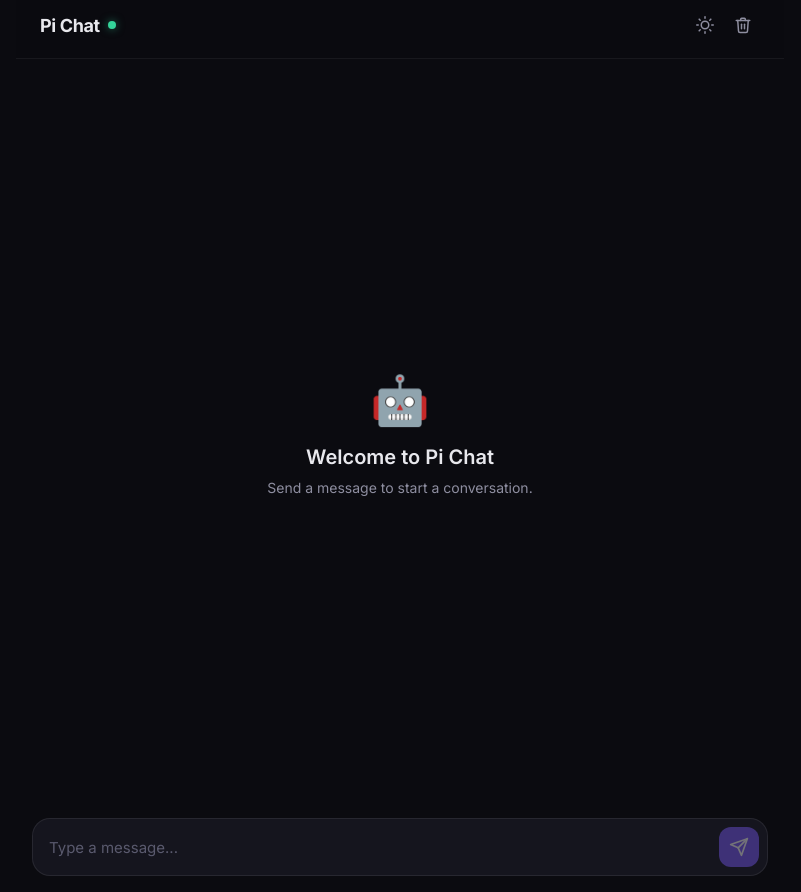
Test: ChatApp › persists messages to localStorage
Type "Persist me" into the text box named "Message input".
click(376, 848); type("Persist me")  # box 41,828 -> 711,867
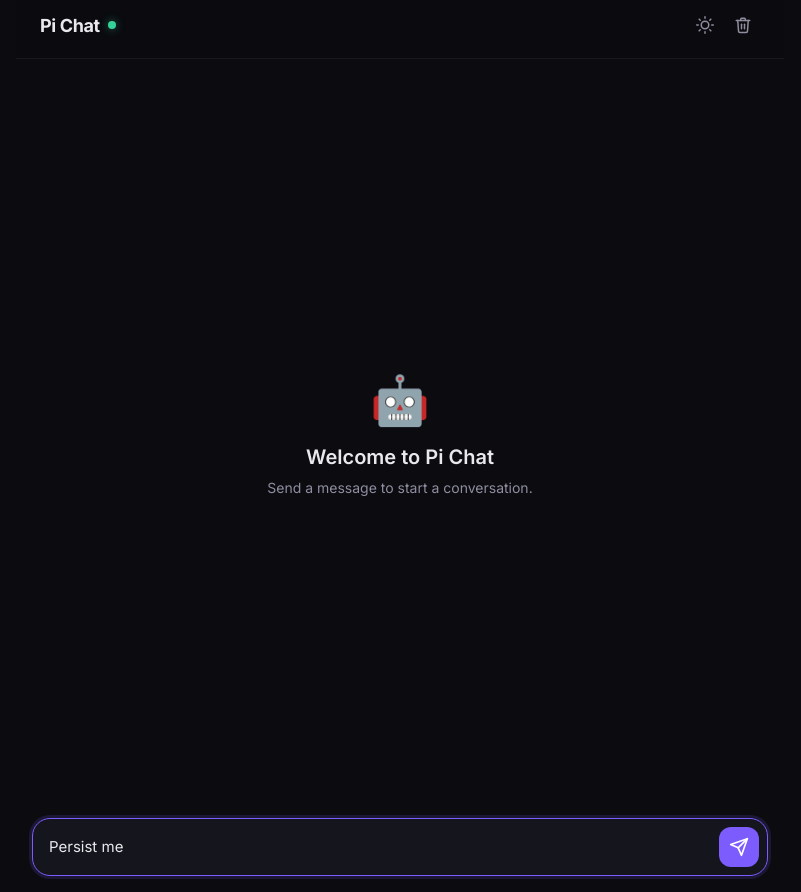
Click the button named "Send message".
click(739, 847)  # box 719,827 -> 759,867
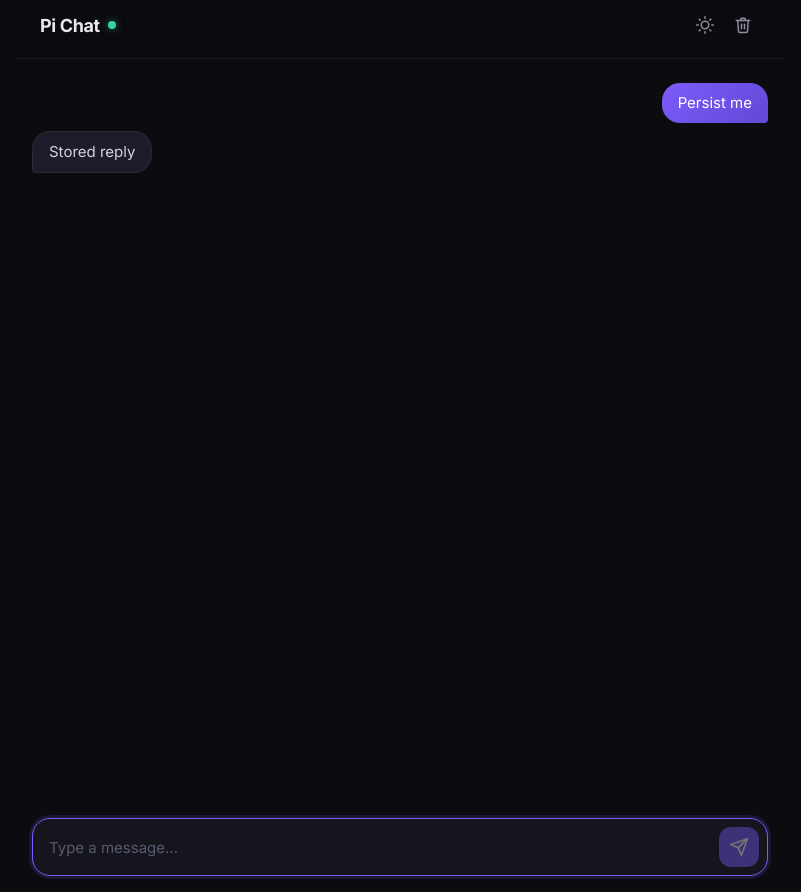
Check: the text "Stored reply" is shown, box 49,140 -> 135,164
